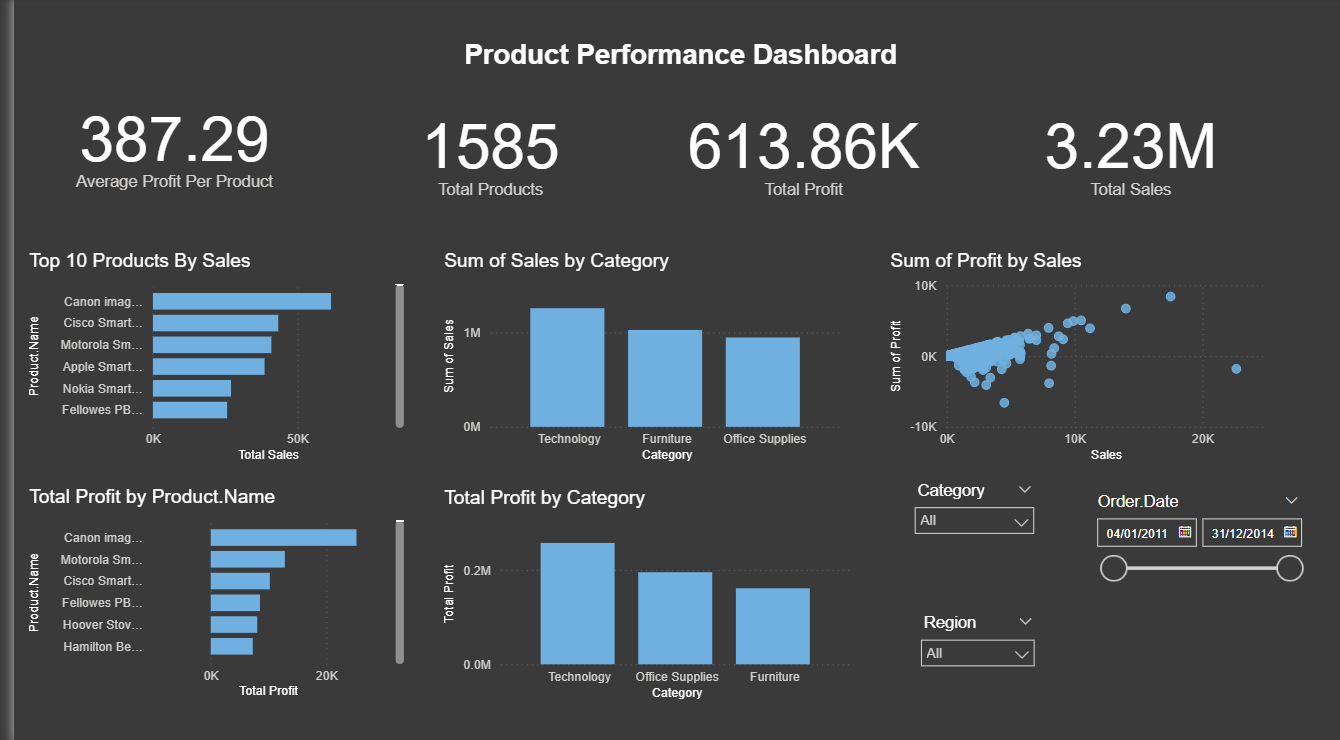

Layout of this report page (visuals, bound fields, positions):
{"tool":"powerbi","page":{"name":"Product Performance Dashboard","canvas":[1280,720],"ordinal":3},"visuals":[{"type":"card","fields":{"Values":["Measures (2).Average Profit Per Product"]},"box":[9.6,35.7,290.9,209.9],"z":0},{"type":"card","fields":{"Values":["Measures (2).Total Sales"]},"box":[942.7,50.8,271.7,194.9],"z":1000},{"type":"card","fields":{"Values":["Measures (2).Total Profit"]},"box":[607.9,50.8,308.7,194.9],"z":2000},{"type":"card","fields":{"Values":["Measures (2).Total Products"]},"box":[306,43.9,307.4,209.9],"z":3000},{"type":"barChart","title":"Top 10 Products By Sales","fields":{"Category":["superstore.Product.Name"],"Y":["Measures (2).Total Sales"]},"box":[9.6,244.3,371.9,209.9],"z":4000},{"type":"barChart","fields":{"Category":["superstore.Product.Name"],"Y":["Measures (2).Total Profit"]},"box":[9.6,472,371.9,209.9],"z":5000},{"type":"columnChart","fields":{"Category":["superstore.Category"],"Y":["Sum(superstore.Sales)"]},"box":[410.3,244.3,395.2,209.9],"z":6000},{"type":"columnChart","fields":{"Category":["superstore.Category"],"Y":["Measures (2).Total Profit"]},"box":[410.3,473.4,404.8,209.9],"z":7000},{"type":"scatterChart","fields":{"Y":["Sum(superstore.Profit)"],"X":["superstore.Sales"]},"box":[841.2,244.3,384.2,209.9],"z":8000},{"type":"slicer","fields":{"Values":["superstore.Region"]},"box":[864.5,590.1,130.4,123.5],"z":9000},{"type":"slicer","fields":{"Values":["superstore.Category"]},"box":[859,462.4,135.8,127.6],"z":10000},{"type":"slicer","fields":{"Values":["superstore.Order.Date"]},"box":[1033.3,473.4,219.6,161.9],"z":11000},{"type":"textbox","box":[429.5,35.7,446,57.6],"z":12000}]}

Visuals, with their boxes in screenshot pixels (x1, y1, x2, y2), scaled from the page's 1280x720 canvas onto the 1340x740 screenshot:
card - Measures (2).Average Profit Per Product: Rect(10, 37, 315, 252)
card - Measures (2).Total Sales: Rect(987, 52, 1271, 253)
card - Measures (2).Total Profit: Rect(636, 52, 960, 253)
card - Measures (2).Total Products: Rect(320, 45, 642, 261)
"Top 10 Products By Sales" barChart: Rect(10, 251, 399, 467)
barChart - superstore.Product.Name x Measures (2).Total Profit: Rect(10, 485, 399, 701)
columnChart - superstore.Category x Sum(superstore.Sales): Rect(430, 251, 843, 467)
columnChart - superstore.Category x Measures (2).Total Profit: Rect(430, 487, 853, 702)
scatterChart - Sum(superstore.Profit) x superstore.Sales: Rect(881, 251, 1283, 467)
slicer - superstore.Region: Rect(905, 606, 1042, 733)
slicer - superstore.Category: Rect(899, 475, 1041, 606)
slicer - superstore.Order.Date: Rect(1082, 487, 1312, 653)
textbox: Rect(450, 37, 917, 96)
